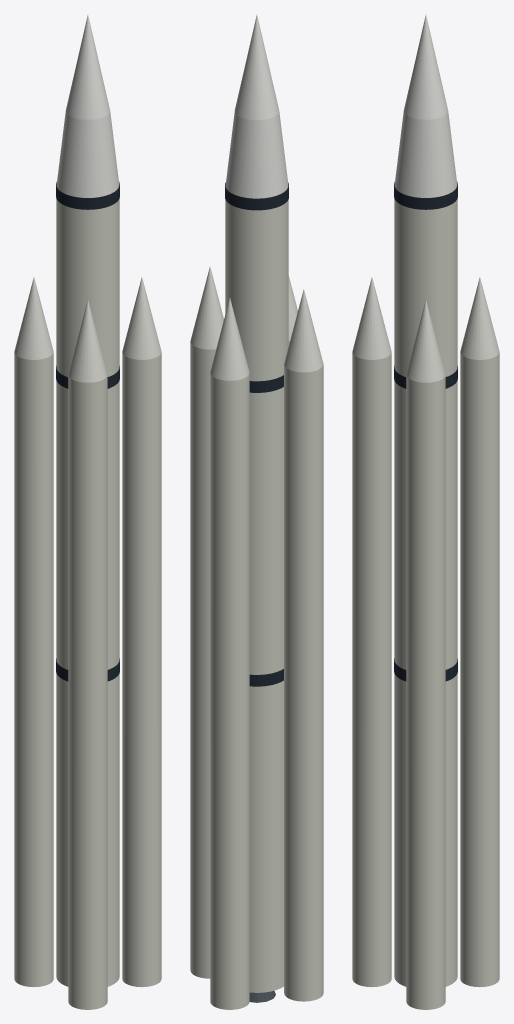
Rendered from soyuz.glb.
3 views of the same model, side by side, from view 1: azimuth 90°, elevation 25°; view 2: azimuth 150°, elevation 25°; view 3: azimuth 270°, elevation 25° (orthographic).
Visible parts, largest first — view 1: booster-body (×3), body-2, body-0, body-1, booster-nose (×3), fairing, nose, interstage-2; view 2: booster-body (×3), body-0, body-1, body-2, booster-nose (×4), fairing, nose, interstage-2, interstage-0, interstage-1; view 3: booster-body (×3), body-2, body-0, body-1, booster-nose (×3), fairing, nose, interstage-2.
Boxes of the visible parts, box(x1,y1,x2,y2) form: booster-body (×3): box(14, 352, 161, 1009); body-2: box(56, 199, 119, 376); body-0: box(56, 674, 119, 986); body-1: box(56, 381, 119, 669); booster-nose (×3): box(14, 277, 161, 382); fairing: box(56, 111, 119, 197); nose: box(66, 15, 109, 119); interstage-2: box(56, 182, 119, 209); booster-body (×3): box(190, 342, 323, 1009); body-0: box(249, 680, 283, 992); body-1: box(249, 387, 283, 674); body-2: box(225, 199, 288, 381); booster-nose (×4): box(190, 266, 323, 380); fairing: box(225, 111, 288, 198); nose: box(234, 15, 279, 120); interstage-2: box(225, 182, 288, 210); interstage-0: box(249, 669, 283, 686); interstage-1: box(249, 375, 283, 392); booster-body (×3): box(352, 352, 499, 1009); body-2: box(394, 199, 457, 376); body-0: box(394, 674, 457, 986); body-1: box(394, 381, 457, 669); booster-nose (×3): box(352, 277, 499, 382); fairing: box(394, 111, 457, 197); nose: box(404, 15, 447, 119); interstage-2: box(394, 182, 457, 209).
Bounding box in the file's own units: 6.85 × 50.16 × 6.85.
